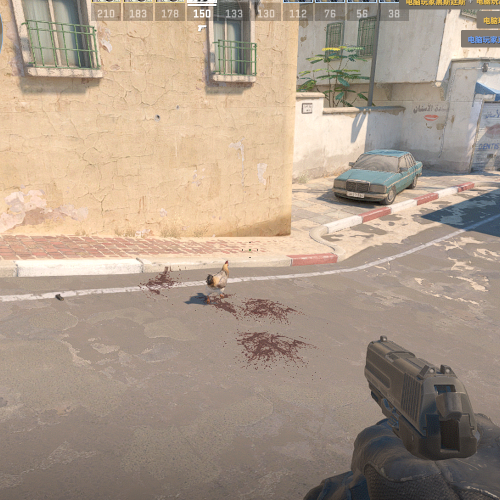chicken: (204, 260, 229, 302)
